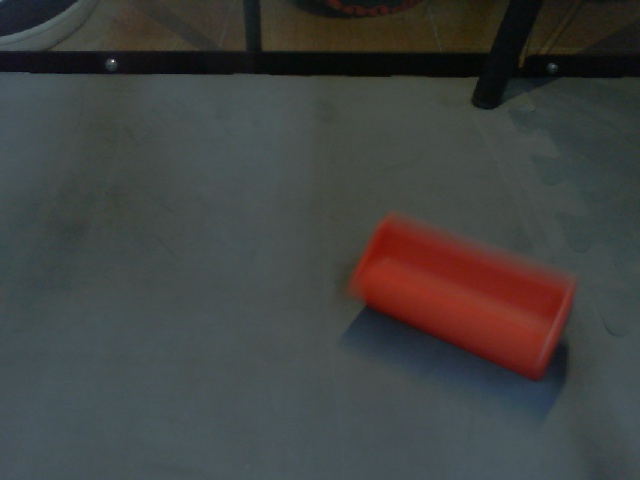RedSample: (345, 207, 577, 382)
